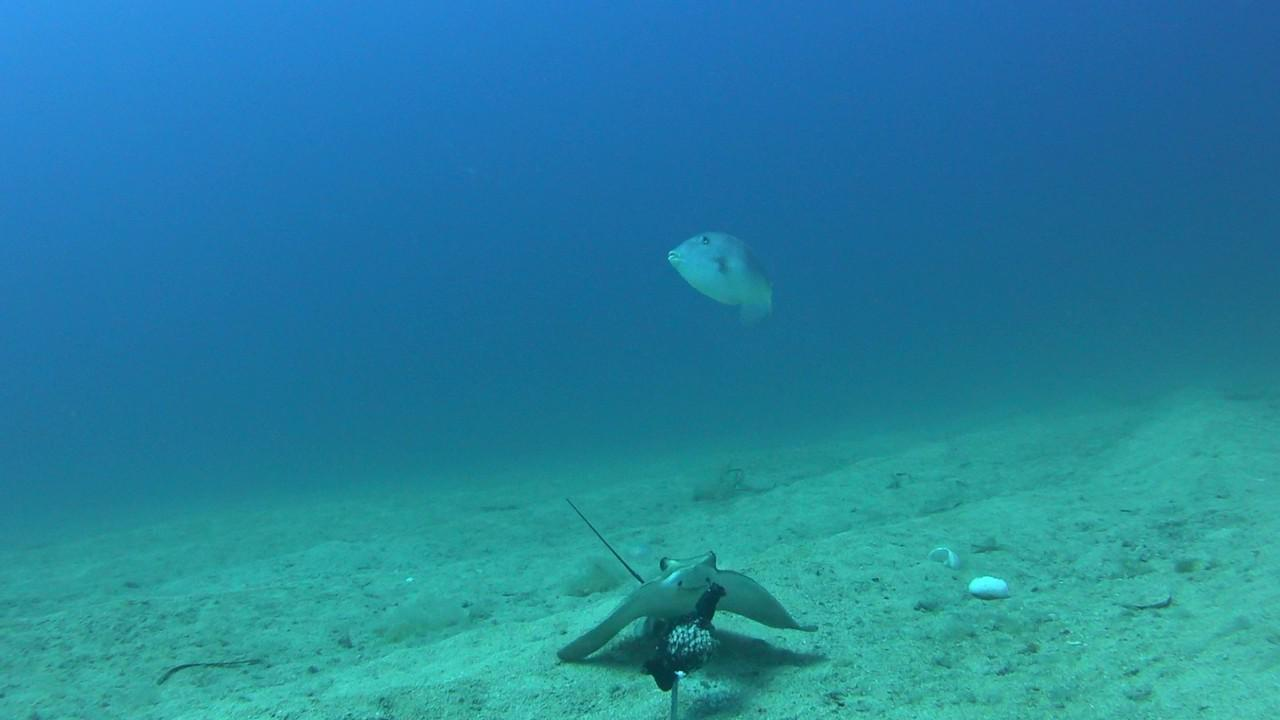balistes: (664, 226, 778, 328)
myliobatis: (519, 483, 830, 667)
